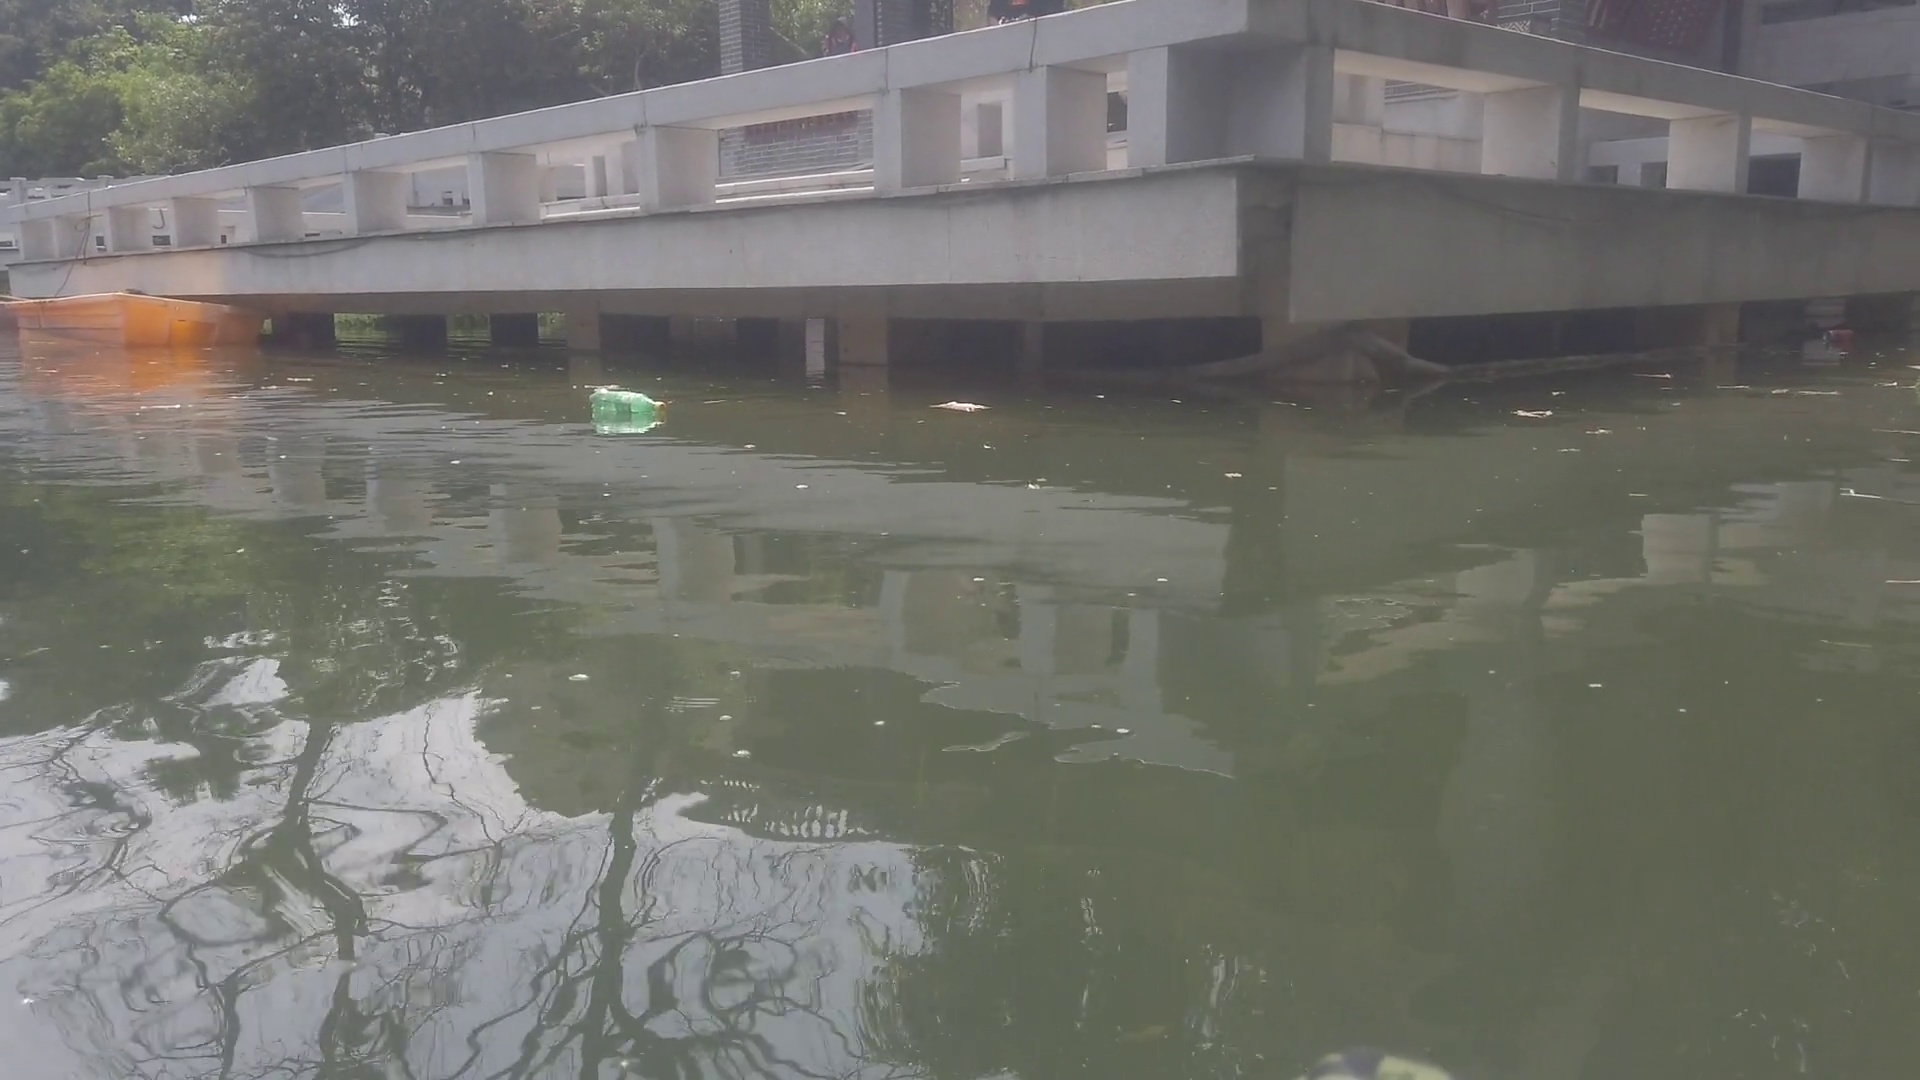bottle: (592, 386, 667, 417)
paper: (932, 394, 996, 414)
